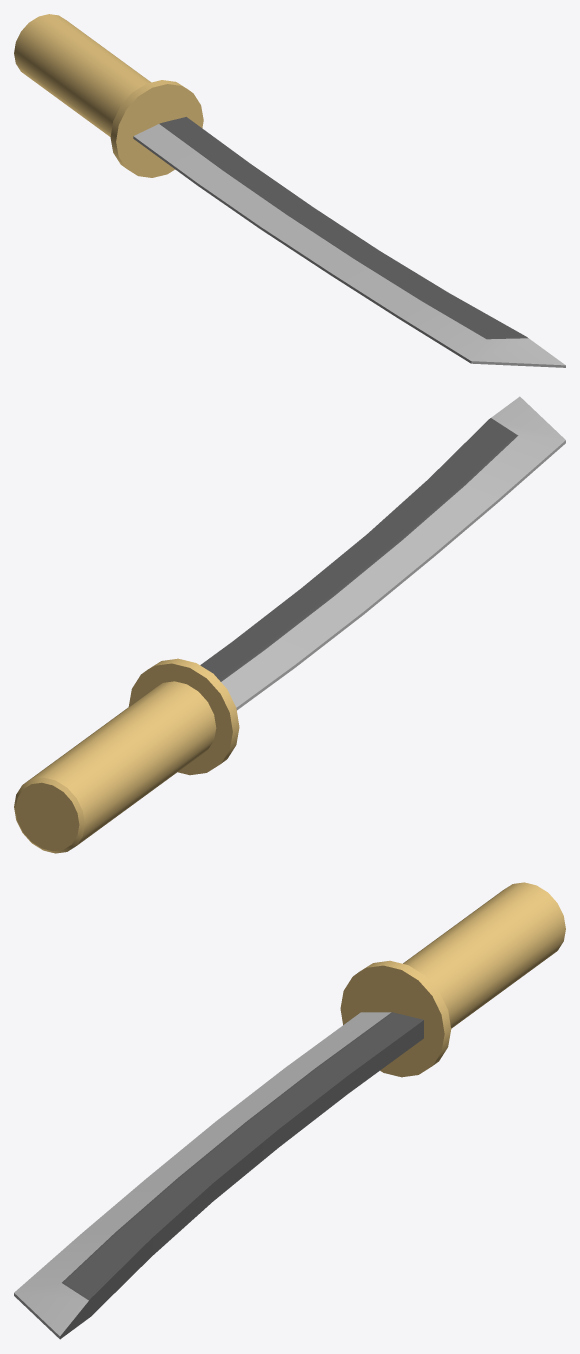
The model's file is Sword1.fbx.
The picture shows the model from 3 angles, top to bottom: view 1: azimuth 30°, elevation 25°; view 2: azimuth 150°, elevation 25°; view 3: azimuth 330°, elevation 25°; orthographic projection. The views are drawn at different scales.
Parts seen in each view (by area): view 1: pCube2; view 2: pCube2; view 3: pCube2.
Boxes of the visible parts, bbox=[...] form: pCube2: bbox=[14, 14, 565, 367]; pCube2: bbox=[14, 396, 565, 853]; pCube2: bbox=[14, 882, 565, 1339].
Size of the model in its own units: 13.74 by 11.09 by 103.
